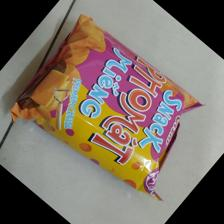Oishi_phomat: (11, 12, 204, 207)
